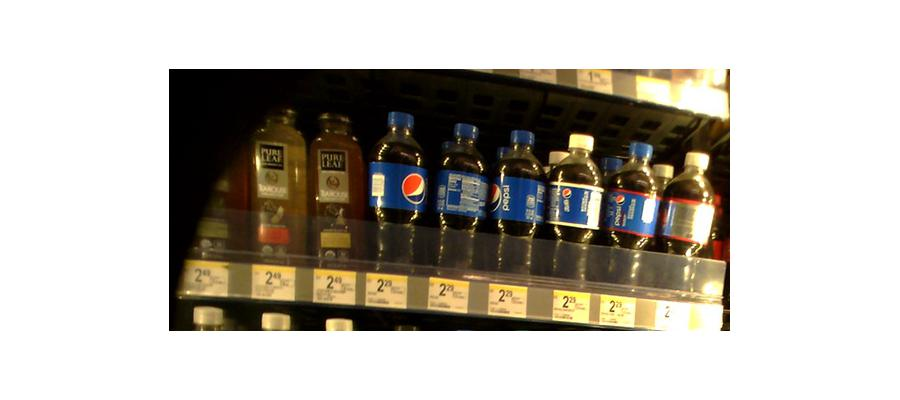bottle: (365, 109, 427, 270), (251, 93, 303, 263), (547, 132, 603, 284), (308, 111, 362, 268), (659, 148, 716, 296), (431, 123, 487, 271), (605, 135, 658, 290), (491, 126, 543, 275)
